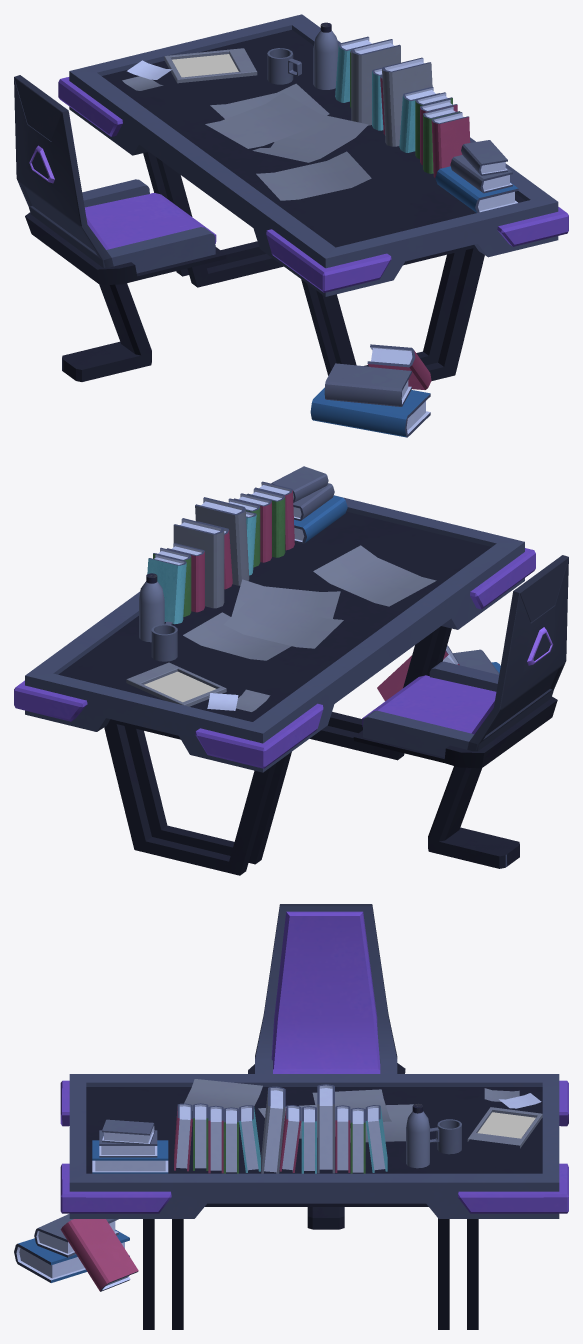
File: desk.fbx
The picture shows the model from 3 angles, top to bottom: view 1: azimuth 30°, elevation 25°; view 2: azimuth 150°, elevation 25°; view 3: azimuth 270°, elevation 25°; orthographic projection. The views are drawn at different scales.
Visible parts, largest first — view 1: pasted__polySurface124, pasted__polySurface121, pasted__polySurface114, pasted__polySurface117, polySurface2863, pasted__polySurface115, pasted__polySurface2752, pasted__polySurface72, polySurface2864, pasted__polySurface75, pasted__polySurface2753, pasted__polySurface120 (+22 smaller); view 2: pasted__polySurface124, pasted__polySurface121, pasted__polySurface114, polySurface2861, pasted__polySurface117, polySurface2862, pasted__polySurface115, pasted__polySurface75, pasted__polySurface72, pasted__polySurface123, pasted__polySurface116, pasted__polySurface58 (+22 smaller); view 3: pasted__polySurface121, pasted__polySurface124, pasted__polySurface115, pasted__polySurface114, pasted__polySurface2754, pasted__polySurface125, pasted__polySurface127, pasted__polySurface63, pasted__polySurface2752, pasted__polySurface75, pasted__polySurface66, pasted__polySurface54 (+23 smaller).
Part boxes in pixels (x1,y1,x2,y2): pasted__polySurface124: [102, 30, 525, 265]; pasted__polySurface121: [69, 14, 558, 296]; pasted__polySurface114: [14, 75, 215, 273]; pasted__polySurface117: [62, 283, 151, 381]; polySurface2863: [316, 247, 484, 381]; pasted__polySurface115: [69, 113, 216, 249]; pasted__polySurface2752: [310, 387, 430, 437]; pasted__polySurface72: [205, 92, 325, 148]; polySurface2864: [301, 250, 465, 375]; pasted__polySurface75: [256, 151, 371, 200]; pasted__polySurface2753: [324, 363, 411, 406]; pasted__polySurface120: [266, 229, 391, 292]; pasted__polySurface124: [58, 511, 491, 739]; pasted__polySurface121: [25, 495, 524, 772]; pasted__polySurface114: [363, 555, 568, 757]; polySurface2861: [104, 722, 276, 875]; pasted__polySurface117: [428, 766, 519, 868]; polySurface2862: [124, 726, 291, 864]; pasted__polySurface115: [362, 675, 496, 734]; pasted__polySurface75: [313, 545, 436, 606]; pasted__polySurface72: [223, 596, 343, 648]; pasted__polySurface123: [195, 703, 323, 768]; pasted__polySurface116: [353, 696, 557, 768]; pasted__polySurface58: [173, 518, 224, 608]; pasted__polySurface121: [69, 1074, 559, 1218]; pasted__polySurface124: [86, 1087, 542, 1206]; pasted__polySurface115: [271, 911, 380, 1073]; pasted__polySurface114: [255, 904, 397, 1073]; pasted__polySurface2754: [60, 1219, 138, 1291]; pasted__polySurface125: [60, 1163, 171, 1213]; pasted__polySurface127: [458, 1163, 568, 1213]; pasted__polySurface63: [467, 1107, 542, 1148]; pasted__polySurface2752: [14, 1229, 129, 1282]; pasted__polySurface75: [184, 1079, 262, 1110]; pasted__polySurface66: [261, 1086, 285, 1173]; pasted__polySurface54: [92, 1140, 168, 1173].
Size of the model in its own units: 37.11 by 26.13 by 47.51.
